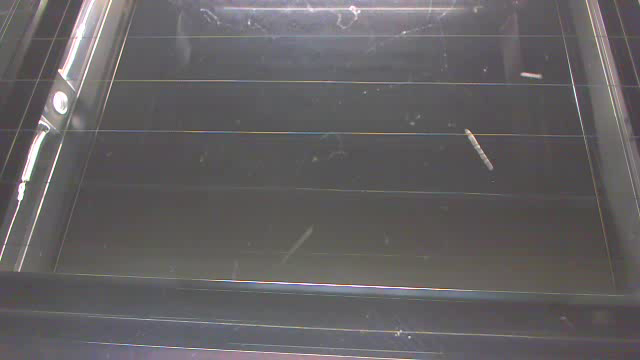alpha: (457, 123, 507, 173), (515, 61, 549, 95)
